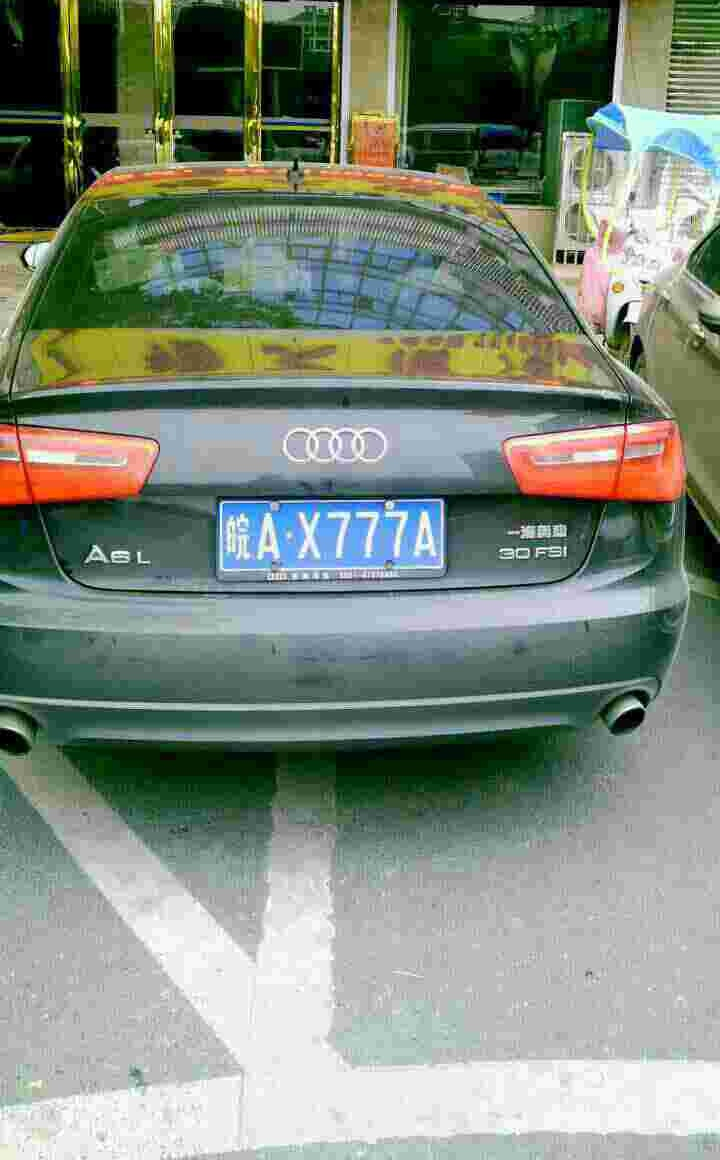license_plate: (225, 498, 446, 571)
